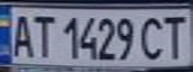1: (57, 12, 81, 60)
2: (97, 14, 118, 62)
4: (78, 12, 100, 61)
9: (115, 14, 139, 62)
A: (6, 11, 36, 58)
C: (136, 12, 169, 61)
T: (157, 11, 190, 61), (30, 11, 57, 58)
